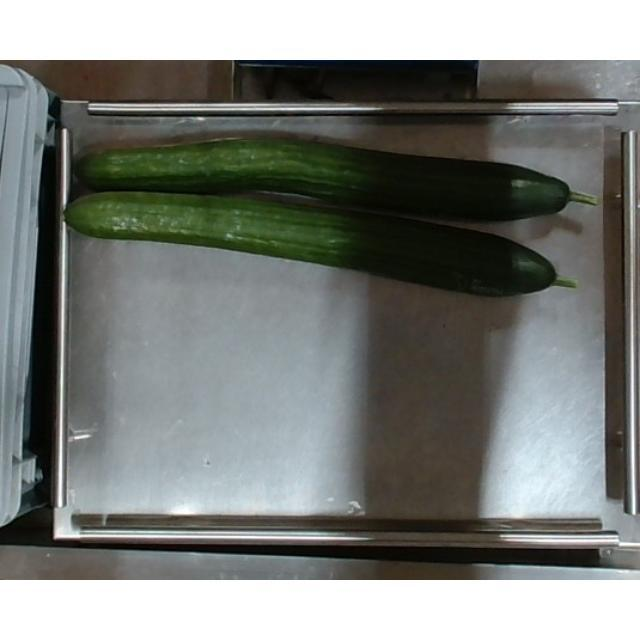cucumber: (55, 188, 562, 302), (71, 132, 575, 224)
